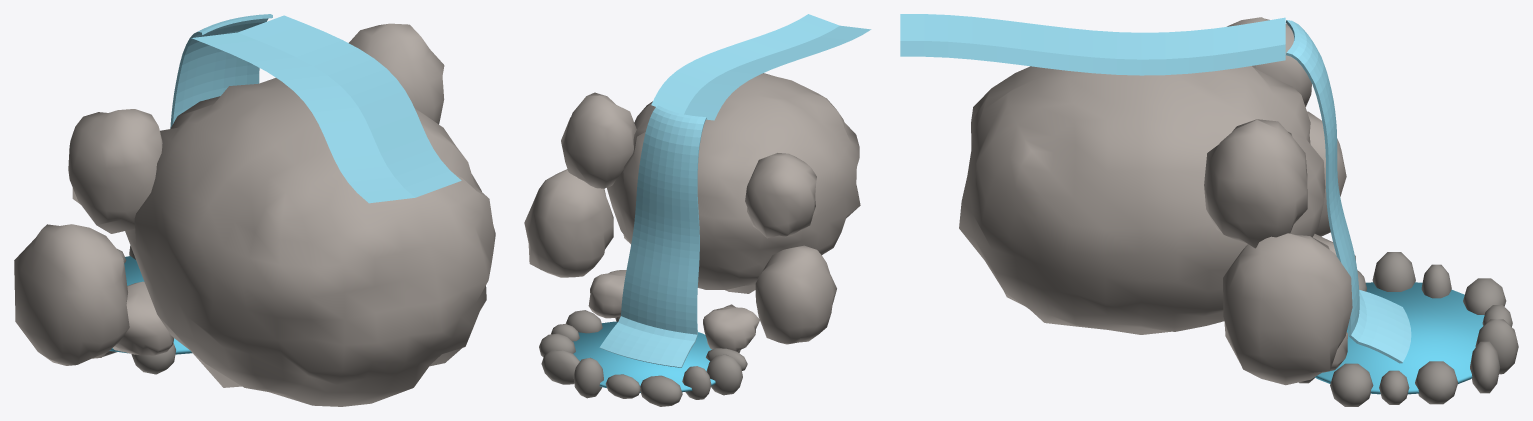
File: Waterfall_Mountain.fbx
3 renders of one model, left to right at view 1: azimuth 30°, elevation 25°; view 2: azimuth 150°, elevation 25°; view 3: azimuth 270°, elevation 25°, orthographic. The views are drawn at different scales.
Parts seen in each view (by area): view 1: Cliff_MainMass, River_Surface, Cliff_Ledge_0, Cliff_Ledge_2, Waterfall_Curtain, Cliff_Ledge_3, Cliff_Ledge_4, Pool_Stone_9, Plunge_Pool; view 2: Cliff_MainMass, Waterfall_Curtain, River_Surface, Cliff_Ledge_1, Cliff_Ledge_0, Cliff_Ledge_3, Cliff_Ledge_2, Plunge_Pool, Cliff_Ledge_4, Cliff_Ledge_5, Pool_Stone_7, Pool_Stone_5 (+8 smaller); view 3: Cliff_MainMass, River_Surface, Cliff_Ledge_1, Cliff_Ledge_3, Waterfall_Curtain, Plunge_Pool, Cliff_Ledge_2, Pool_Stone_13, Pool_Stone_1, Pool_Stone_7, Pool_Stone_3, Cliff_Ledge_0 (+4 smaller).
Boxes of the visible parts, x1=… form: Cliff_MainMass: x1=125, y1=78, x2=495, y2=406; River_Surface: x1=191, y1=15, x2=461, y2=203; Cliff_Ledge_0: x1=14, y1=224, x2=129, y2=365; Cliff_Ledge_2: x1=68, y1=109, x2=162, y2=233; Waterfall_Curtain: x1=170, y1=14, x2=272, y2=128; Cliff_Ledge_3: x1=349, y1=23, x2=444, y2=124; Cliff_Ledge_4: x1=113, y1=281, x2=173, y2=355; Pool_Stone_9: x1=131, y1=343, x2=175, y2=374; Plunge_Pool: x1=109, y1=256, x2=192, y2=354; Cliff_MainMass: x1=607, y1=73, x2=860, y2=293; Waterfall_Curtain: x1=599, y1=105, x2=706, y2=367; River_Surface: x1=651, y1=14, x2=871, y2=120; Cliff_Ledge_1: x1=524, y1=169, x2=613, y2=277; Cliff_Ledge_0: x1=755, y1=245, x2=836, y2=344; Cliff_Ledge_3: x1=561, y1=92, x2=636, y2=188; Cliff_Ledge_2: x1=745, y1=153, x2=816, y2=238; Plunge_Pool: x1=573, y1=321, x2=715, y2=392; Cliff_Ledge_4: x1=703, y1=304, x2=759, y2=351; Cliff_Ledge_5: x1=588, y1=270, x2=626, y2=318; Pool_Stone_7: x1=706, y1=354, x2=742, y2=395; Pool_Stone_5: x1=640, y1=375, x2=682, y2=406; Cliff_MainMass: x1=959, y1=65, x2=1325, y2=334; River_Surface: x1=900, y1=14, x2=1285, y2=75; Cliff_Ledge_1: x1=1223, y1=233, x2=1352, y2=385; Cliff_Ledge_3: x1=1204, y1=119, x2=1307, y2=248; Waterfall_Curtain: x1=1286, y1=20, x2=1411, y2=363; Plunge_Pool: x1=1315, y1=282, x2=1484, y2=394; Cliff_Ledge_2: x1=1227, y1=17, x2=1311, y2=106; Pool_Stone_13: x1=1330, y1=363, x2=1373, y2=406; Pool_Stone_1: x1=1415, y1=361, x2=1458, y2=404; Pool_Stone_7: x1=1372, y1=252, x2=1415, y2=291; Pool_Stone_3: x1=1475, y1=319, x2=1518, y2=374; Cliff_Ledge_0: x1=1307, y1=111, x2=1346, y2=236.
Bounding box in the file's own units: 19.34 × 14.93 × 25.67.
